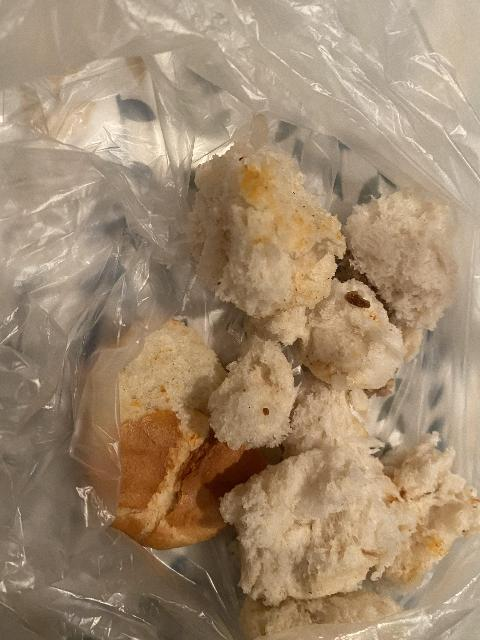Organik: (106, 352, 270, 541), (186, 157, 341, 308), (237, 463, 379, 583), (381, 454, 475, 573), (360, 195, 451, 314), (214, 340, 297, 435), (240, 592, 398, 637), (322, 289, 395, 378), (298, 390, 365, 456)
